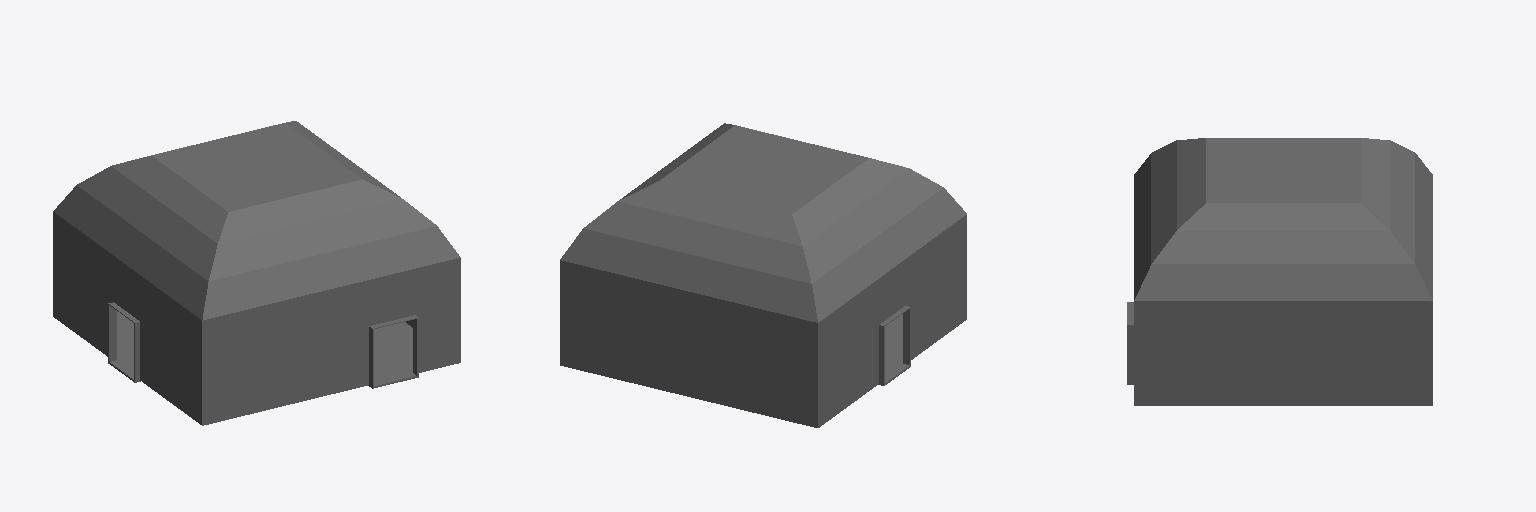
File: blenderRoom.obj
3 views of the same model, side by side, from view 1: azimuth 30°, elevation 25°; view 2: azimuth 150°, elevation 25°; view 3: azimuth 270°, elevation 25° (orthographic).
Parts seen in each view (by area): view 1: Mesh.002_Object017; view 2: Mesh.002_Object017; view 3: Mesh.002_Object017.
Boxes of the visible parts, box(x1,y1,x2,y2) form: Mesh.002_Object017: box(53, 121, 460, 425); Mesh.002_Object017: box(560, 123, 966, 427); Mesh.002_Object017: box(1127, 138, 1432, 405).
Bounding box in the file's own units: 1141 × 717 × 1144.